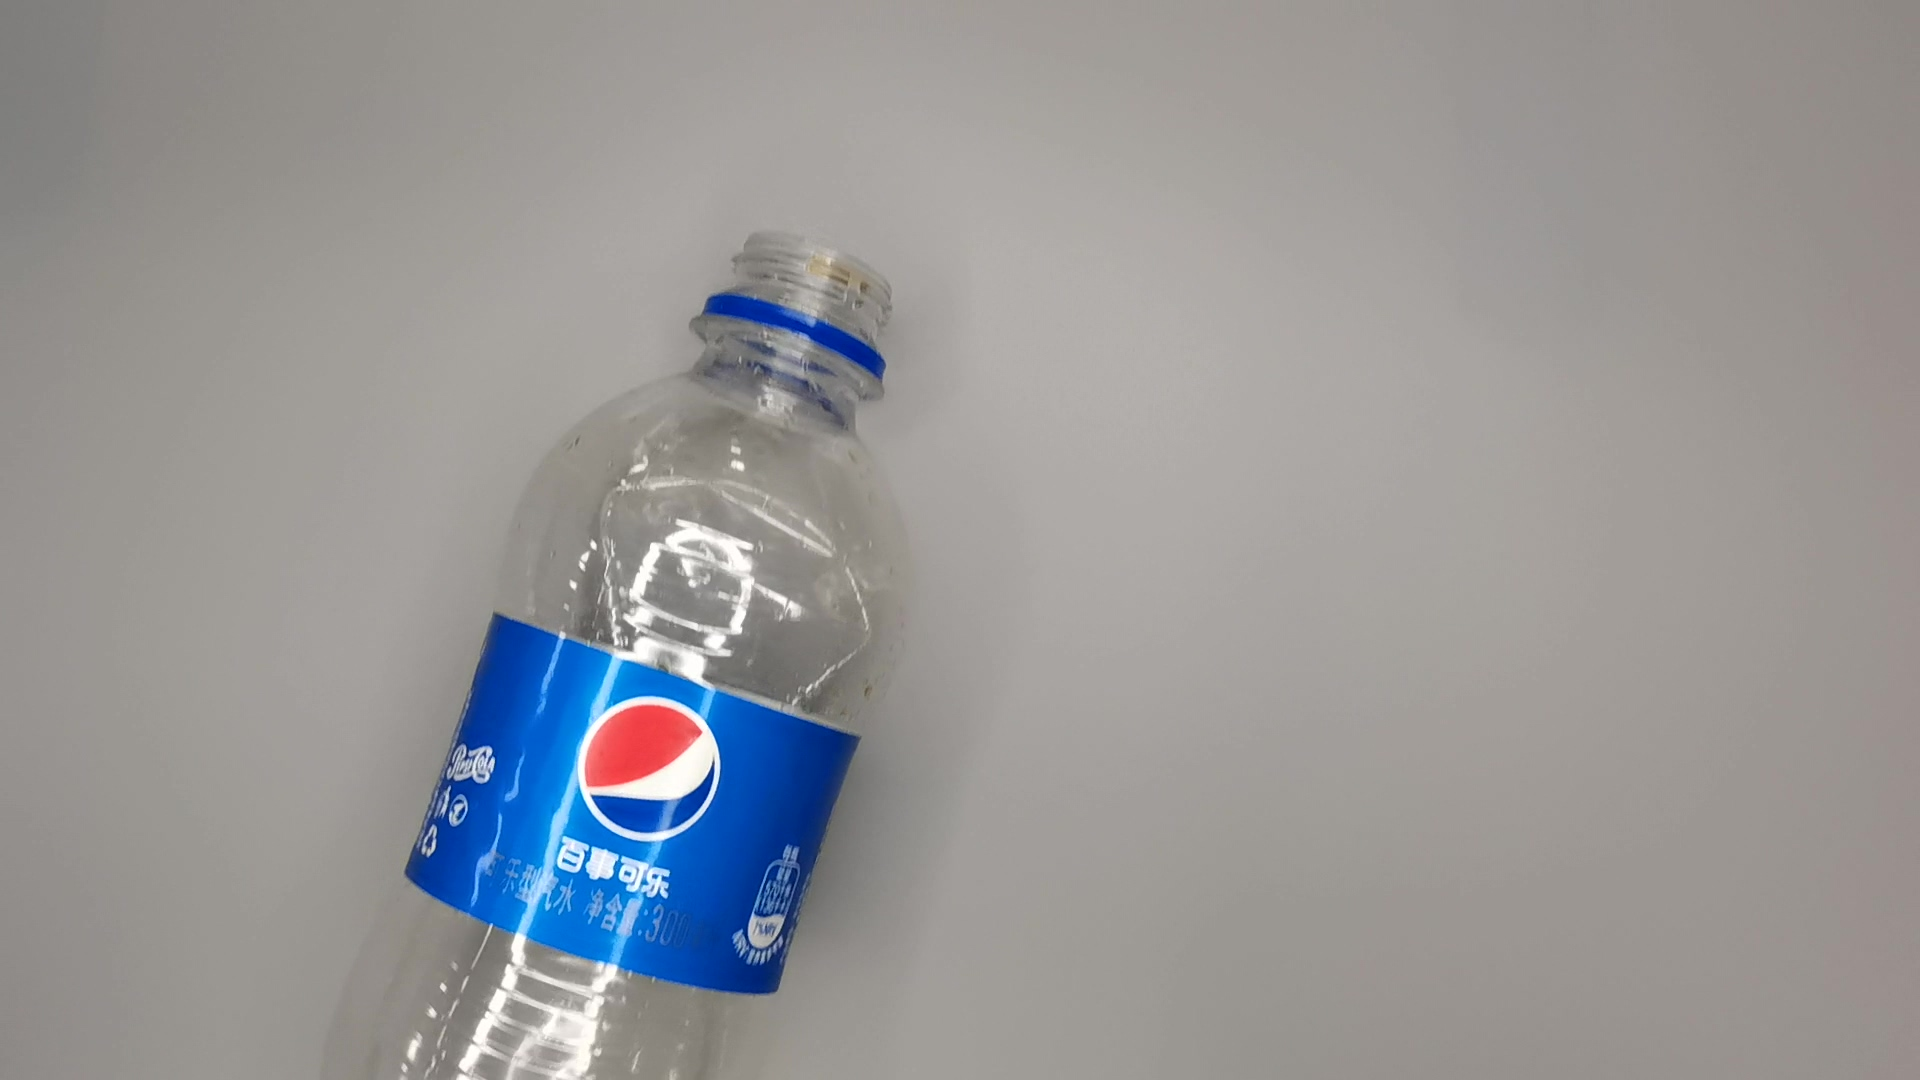bottle: (306, 224, 927, 1080)
